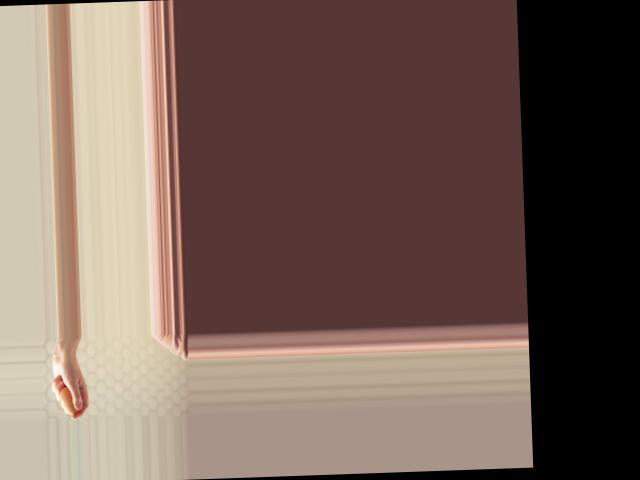egg: (57, 386, 80, 414)
